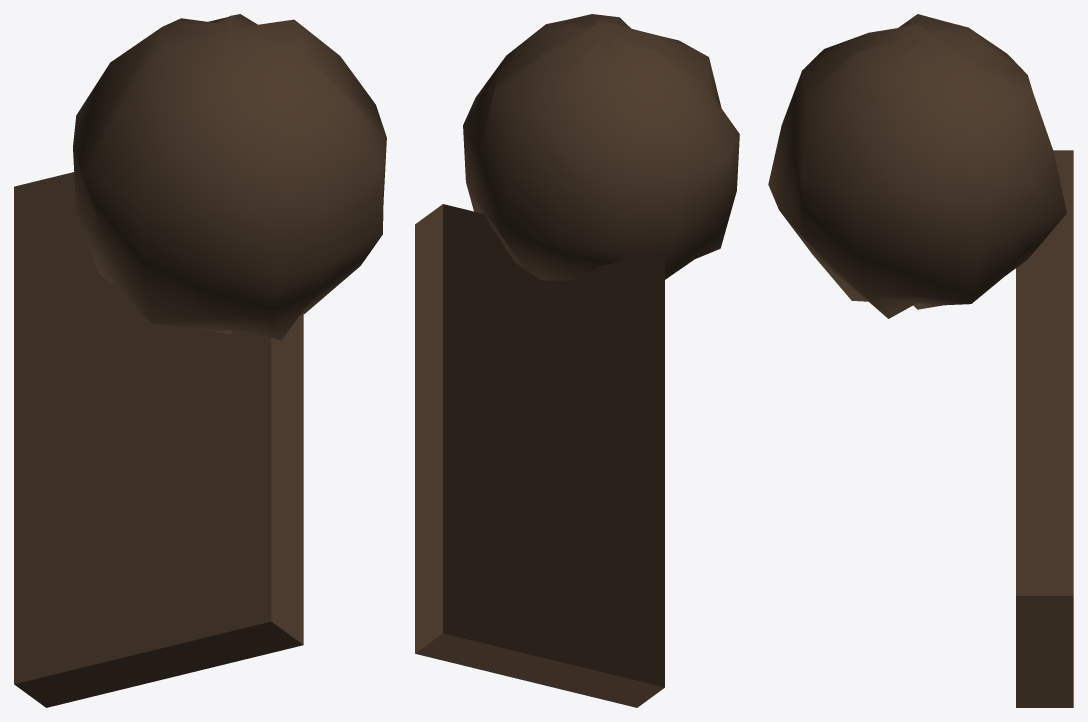
Rendered from cabelo_longo.obj.
The picture shows the model from 3 angles, left to right: view 1: azimuth 30°, elevation 25°; view 2: azimuth 150°, elevation 25°; view 3: azimuth 270°, elevation 25°; orthographic projection. The views are drawn at different scales.
Parts seen in each view (by area): view 1: costas, topo; view 2: costas, topo; view 3: topo, costas.
Boxes of the visible parts, bbox=[...] form: costas: bbox=[14, 172, 303, 707]; topo: bbox=[73, 14, 386, 340]; costas: bbox=[415, 204, 664, 707]; topo: bbox=[463, 14, 739, 280]; topo: bbox=[768, 14, 1066, 318]; costas: bbox=[1016, 150, 1073, 707].
Size of the model in its own units: 0.5218 by 1.2 by 0.5285.
